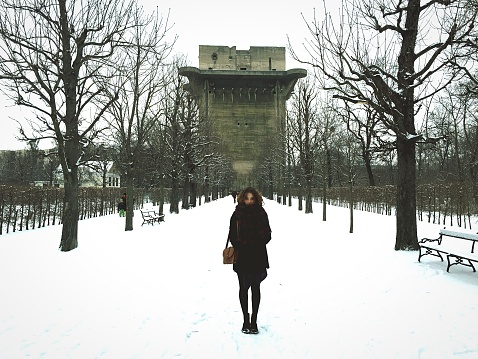em pe: (228, 181, 265, 332)
